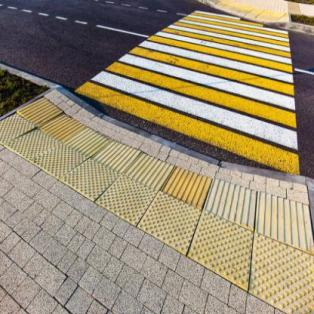Podoctatil: (2, 97, 313, 311)
